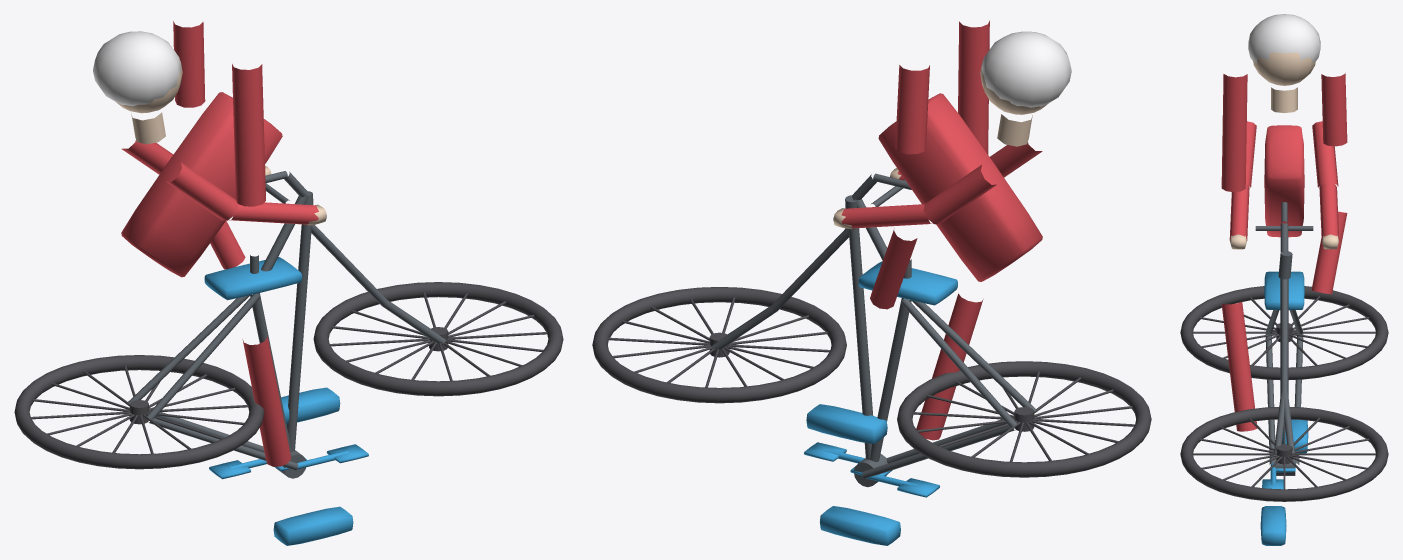
The model's file is cyclist-tt.glb.
3 renders of one model, left to right at view 1: azimuth 30°, elevation 25°; view 2: azimuth 150°, elevation 25°; view 3: azimuth 270°, elevation 25°, orthographic. The views are drawn at different scales.
Visible parts, largest first — view 1: riderBody, frame, wheelFront, wheelRear, thighR, shinR, thighL, shinL; view 2: riderBody, frame, wheelFront, wheelRear, thighR, shinR, thighL, shinL; view 3: riderBody, wheelFront, wheelRear, frame, thighR, shinR, thighL, shinL.
Boxes of the visible parts, x1,y1,x2,y2 form: riderBody: (93, 31, 353, 545); frame: (127, 171, 445, 479); wheelFront: (313, 282, 563, 396); wheelRear: (14, 355, 264, 469); thighR: (232, 64, 265, 206); shinR: (242, 337, 290, 466); thighL: (173, 21, 205, 107); shinL: (210, 221, 245, 269); riderBody: (806, 31, 1071, 545); frame: (712, 173, 1036, 497); wheelFront: (592, 287, 846, 403); wheelRear: (897, 361, 1151, 477); thighR: (958, 20, 989, 154); shinR: (916, 293, 983, 440); thighL: (895, 65, 929, 154); shinL: (870, 228, 917, 309); riderBody: (1229, 14, 1339, 545); wheelFront: (1180, 407, 1388, 501); wheelRear: (1180, 286, 1388, 379); frame: (1255, 202, 1313, 489); thighR: (1221, 74, 1247, 192); shinR: (1221, 301, 1257, 431); thighL: (1321, 73, 1347, 146); shinL: (1311, 211, 1347, 294).
Size of the model in its own units: 1.72 by 1.71 by 0.724.
